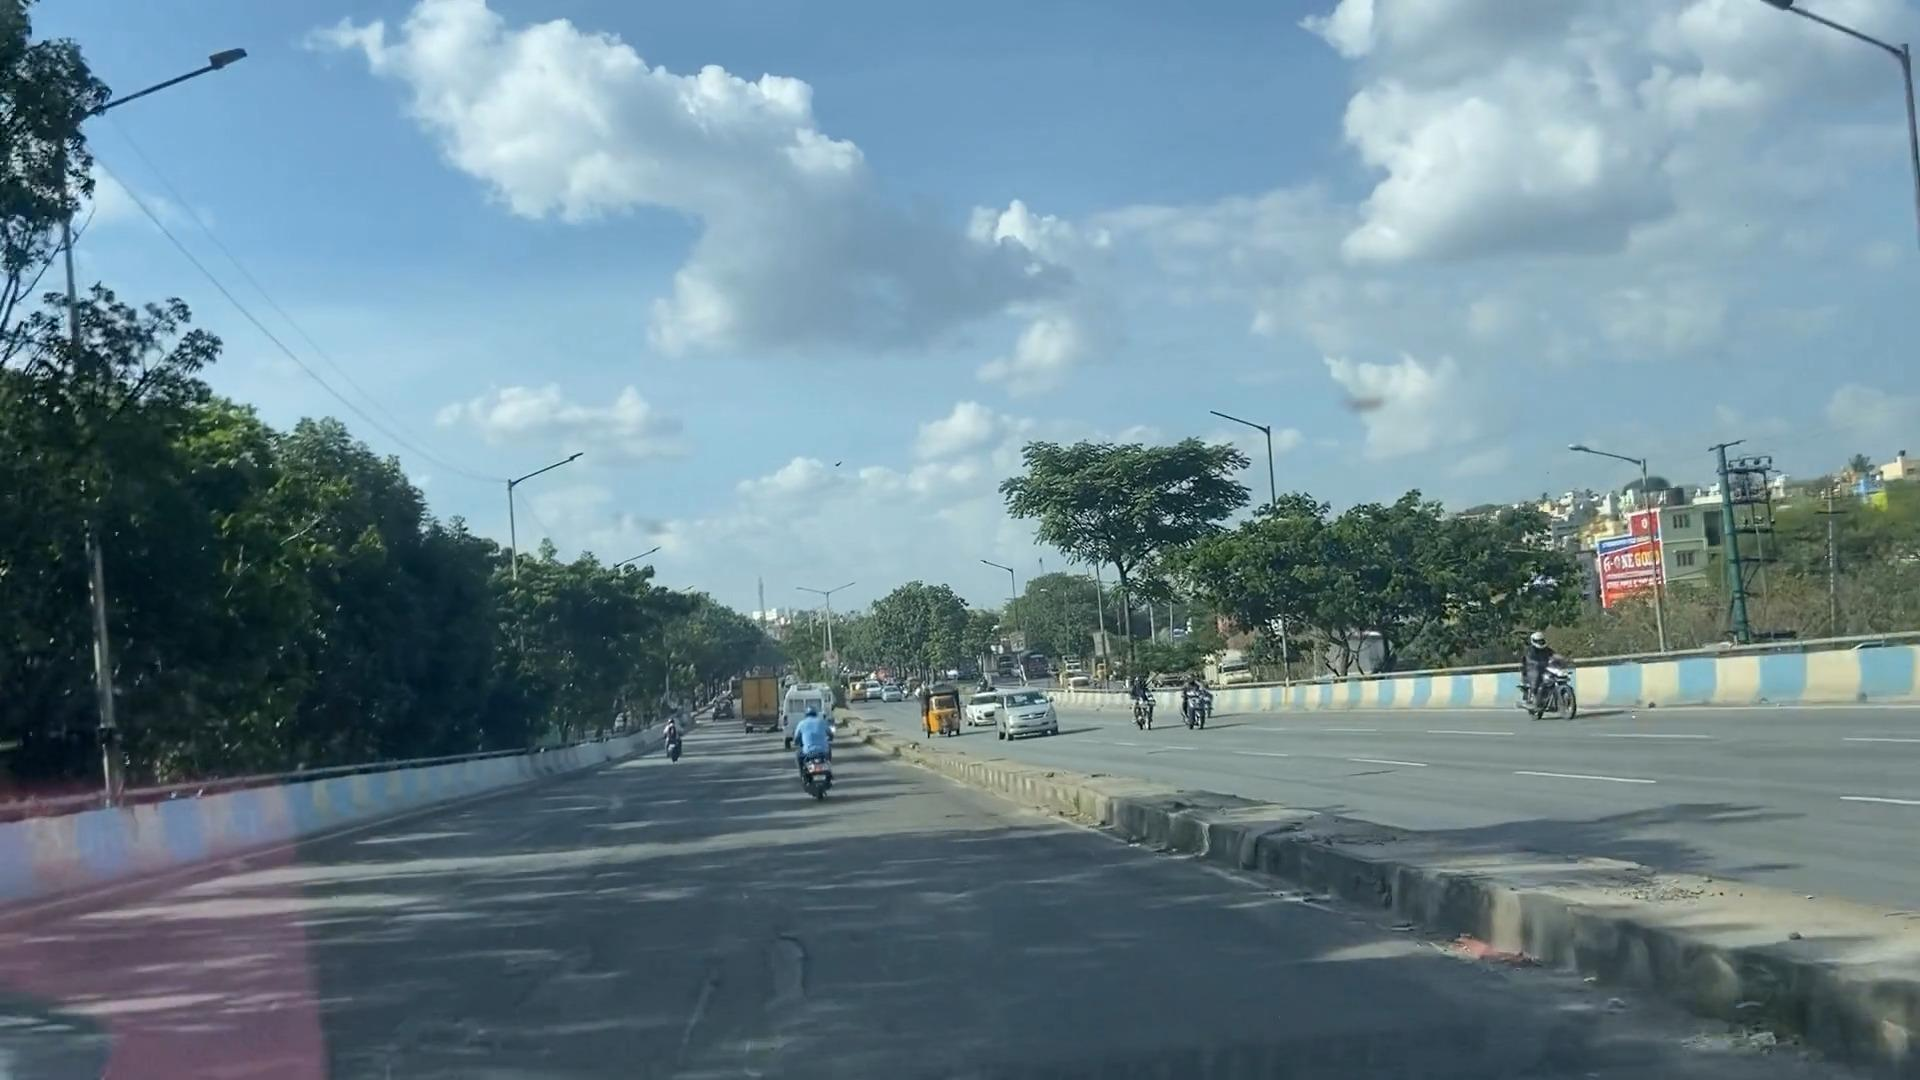LMV: (790, 670, 836, 800)
RoadDamages: (637, 855, 897, 1080), (364, 935, 579, 1080)
